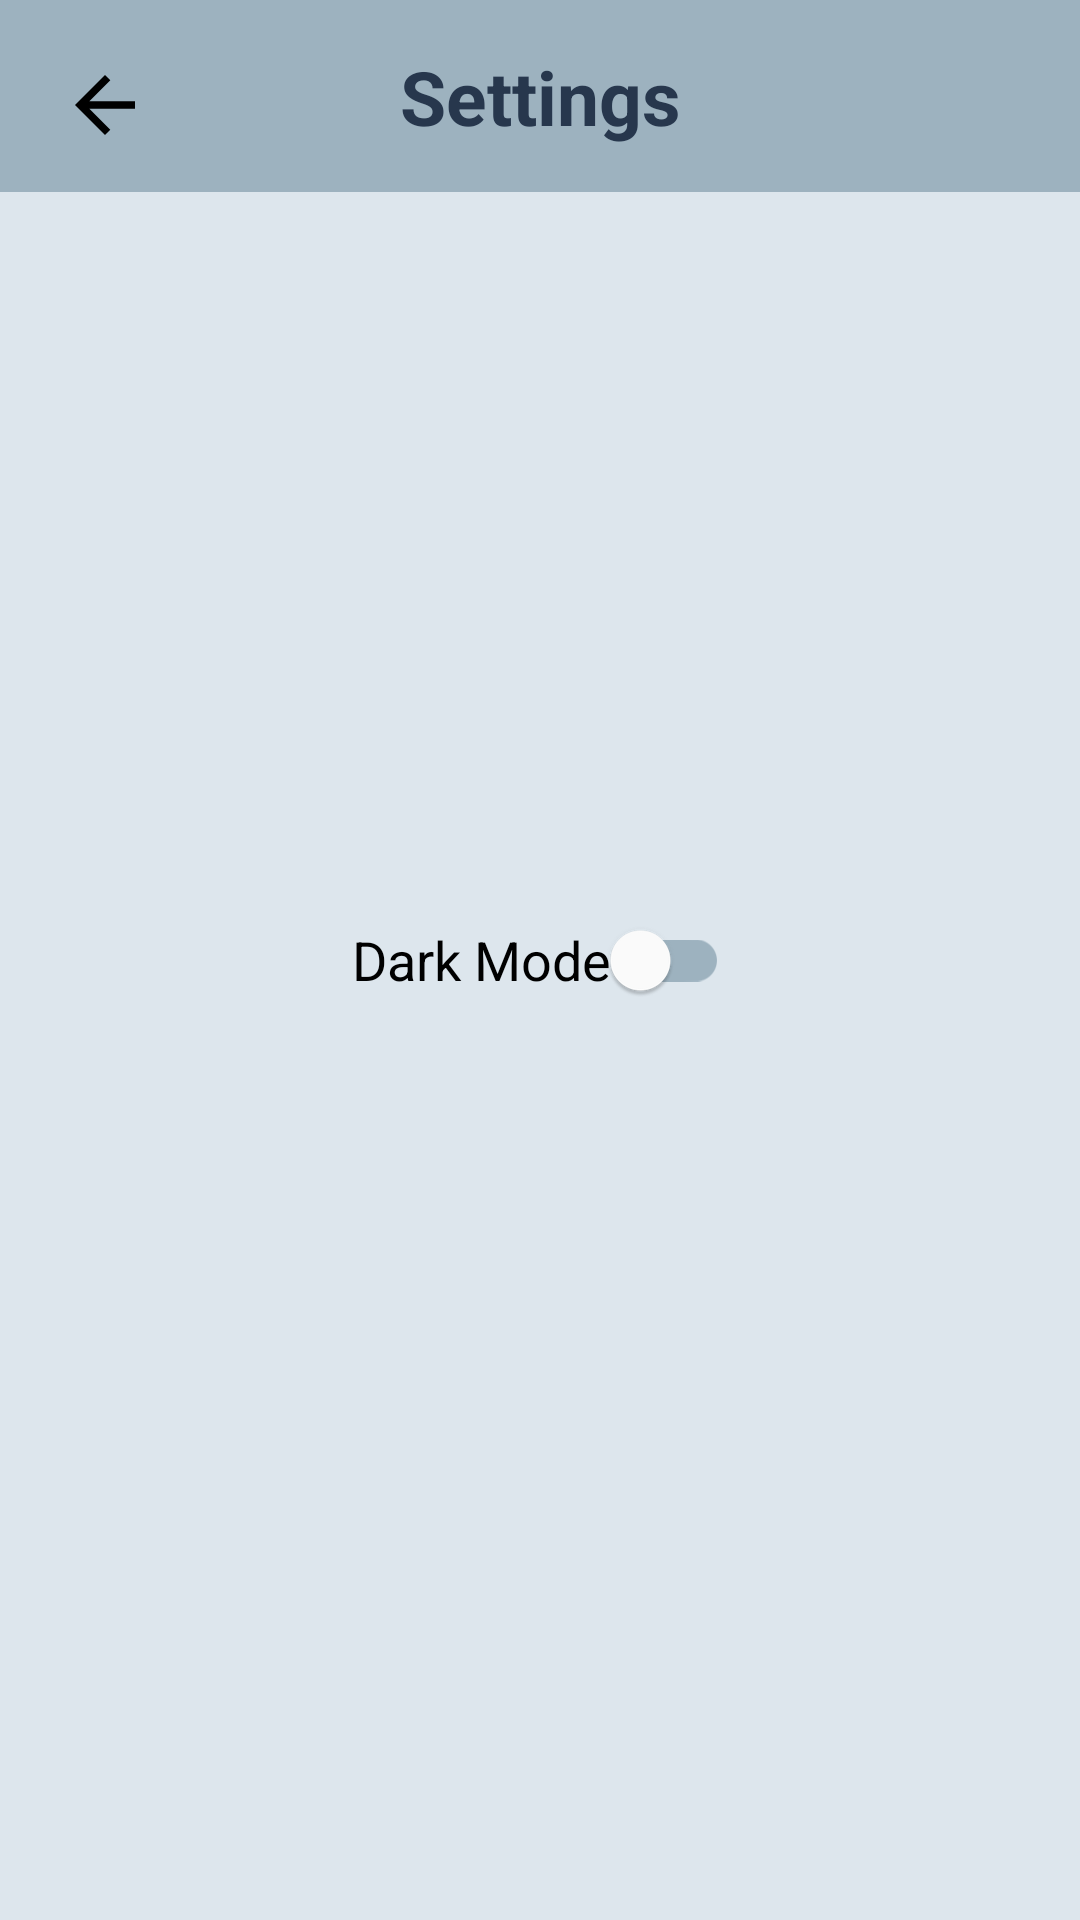

Point at icon controls on the screen. Image size 1080 x 1920, points as point (x, y).
Back: point (105, 105)
